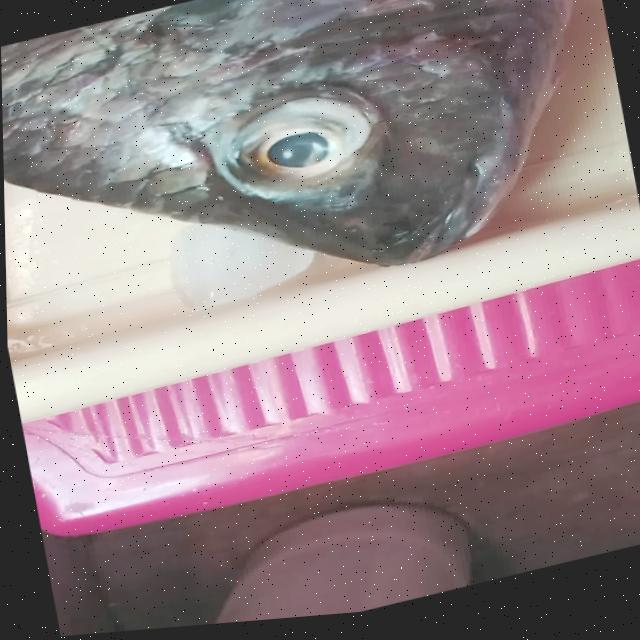Fresh: (179, 70, 415, 222)
